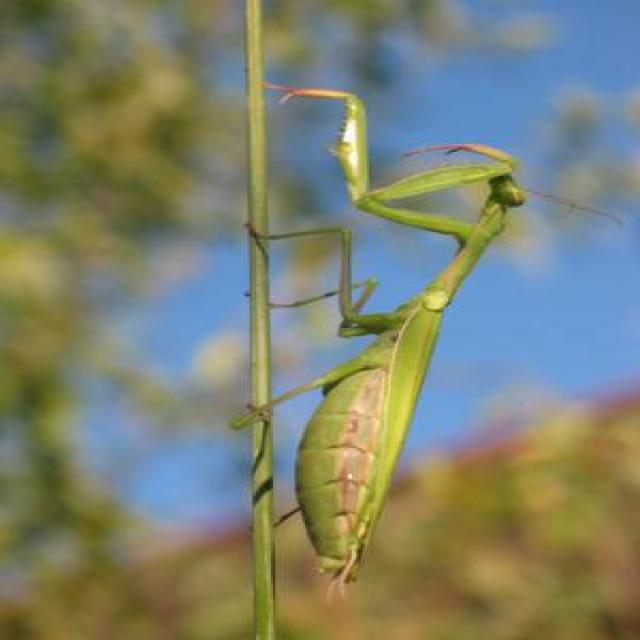antennae: (526, 189, 620, 225)
body: (303, 170, 526, 571)
insect: (243, 78, 622, 582)
legs: (256, 83, 467, 237), (239, 219, 412, 337), (365, 134, 516, 240), (245, 357, 378, 422), (244, 273, 397, 325)
mouthpart: (485, 170, 512, 183)
wings: (353, 304, 450, 561)
